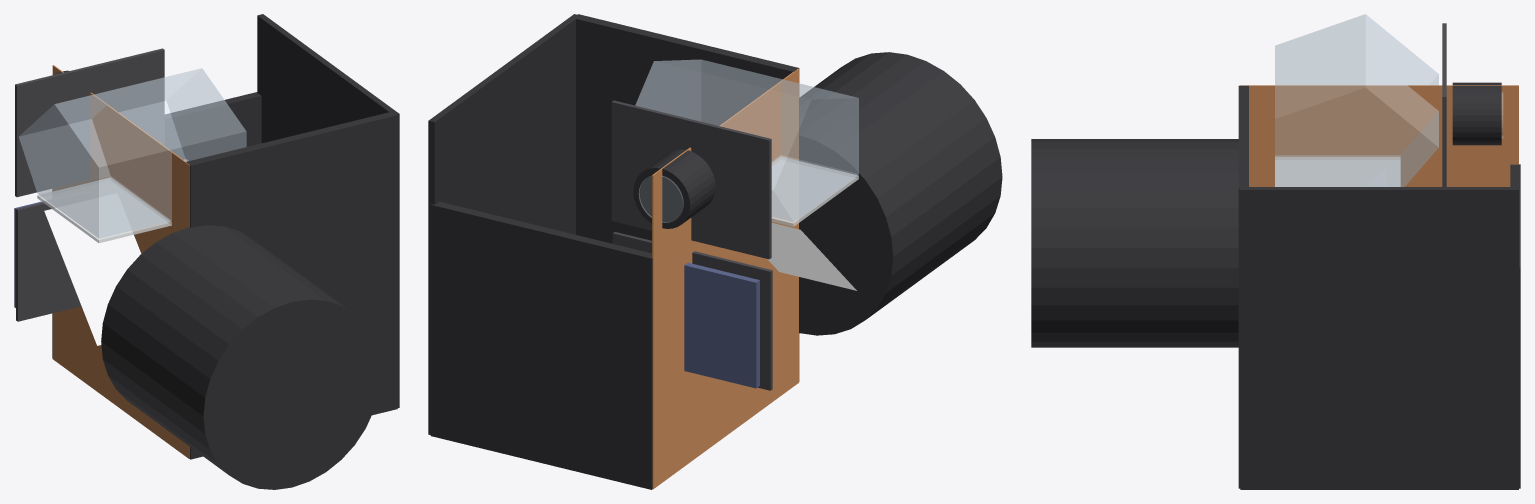
3 renders of one model, left to right at view 1: azimuth 30°, elevation 25°; view 2: azimuth 150°, elevation 25°; view 3: azimuth 270°, elevation 25°, orthographic. The views are drawn at different scales.
Parts seen in each view (by area): view 1: lens_barrel, body_front_cut, pentaprism, curtain_second, section_face, body_side_right, mirror, curtain_first, body_back_cut, focus_screen; view 2: body_back_cut, lens_barrel, body_side_right, section_face, body_front_cut, pentaprism, curtain_second, sensor, eyepiece, focus_screen, curtain_first, mirror (+1 smaller); view 3: body_side_right, lens_barrel, pentaprism, section_face, focus_screen, eyepiece, body_front_cut, body_back_cut, curtain_second.
Part boxes in pixels (box(x1,y1,x2,y2)): lens_barrel: box(101, 225, 380, 489); body_front_cut: box(186, 111, 397, 459); pentaprism: box(19, 68, 246, 238); curtain_second: box(15, 48, 164, 197); section_face: box(52, 65, 189, 458); body_side_right: box(257, 14, 399, 407); mirror: box(44, 208, 141, 345); curtain_first: box(16, 202, 81, 321); body_back_cut: box(52, 92, 261, 357); focus_screen: box(37, 159, 187, 243); body_back_cut: box(430, 201, 652, 489); lens_barrel: box(799, 52, 1002, 335); body_side_right: box(428, 14, 577, 434); section_face: box(652, 68, 798, 489); body_front_cut: box(573, 14, 799, 381); pentaprism: box(635, 59, 858, 221); curtain_second: box(611, 100, 771, 259); sensor: box(684, 262, 759, 388); eyepiece: box(633, 149, 715, 228); focus_screen: box(771, 157, 858, 226); curtain_first: box(612, 232, 772, 390); mirror: box(767, 223, 856, 290); body_side_right: box(1240, 187, 1518, 489); lens_barrel: box(1031, 139, 1238, 347); pentaprism: box(1275, 14, 1438, 186); section_face: box(1240, 85, 1518, 186); focus_screen: box(1275, 157, 1400, 186); eyepiece: box(1452, 82, 1501, 145); body_front_cut: box(1238, 85, 1248, 488); body_back_cut: box(1510, 164, 1520, 488); curtain_second: box(1442, 23, 1446, 186).
Size of what is drawn, in the model's own units: 1.01 by 1.06 by 1.41.
